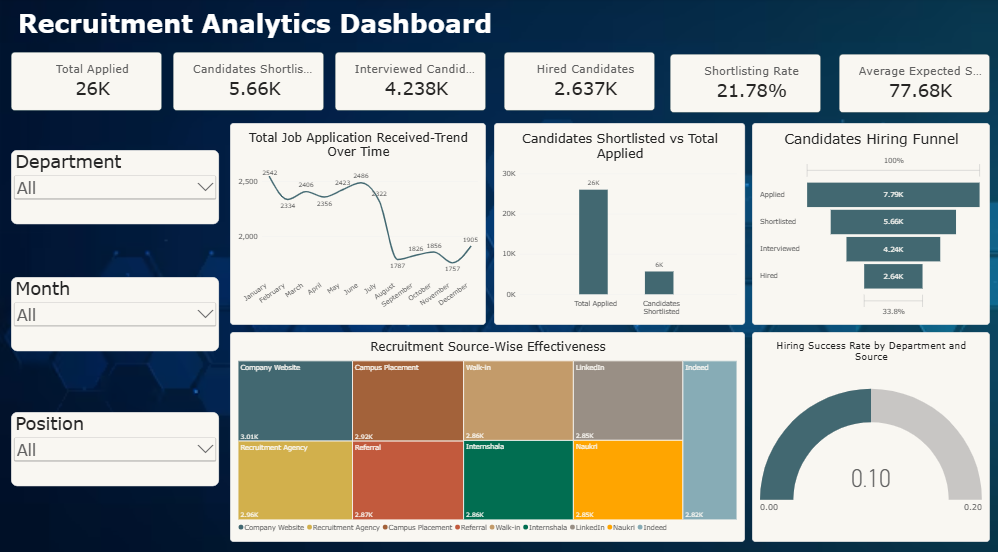

What the dashboard file says about the page in this screenshot:
{"tool":"powerbi","page":{"name":"Recruitment Analytics","canvas":[2120,1180],"ordinal":2},"visuals":[{"type":"textbox","box":[42.5,19.1,1213.9,76.5],"z":0},{"type":"lineChart","title":"Total Job Application Received-Trend Over Time","fields":{"Y":["Count(job_applications_cleaned.application_id)"],"Category":["job_applications_cleaned.application_date.Variation.Date Hierarchy.Month"]},"box":[490.6,264.3,541.4,427.2],"z":1000},{"type":"clusteredColumnChart","title":"Candidates Shortlisted vs Total Applied","fields":{"Category":["Recruitment Comparison.Metric"],"Y":["Recruitment Comparison.Recruitment Count"]},"box":[1048.9,264.3,530.8,427.2],"z":2000},{"type":"funnel","title":"Candidates Hiring Funnel","fields":{"Category":["job_applications_cleaned.status"],"Y":["Count(job_applications_cleaned.application_id)"]},"box":[1594.5,264.3,503.3,427.2],"z":3000},{"type":"treemap","title":"Recruitment Source-Wise Effectiveness","fields":{"Group":["job_applications_cleaned.recruitment_source"],"Values":["CountNonNull(job_applications_cleaned.application_id)"]},"box":[490.6,706.3,1089.1,444.1],"z":4000},{"type":"gauge","title":"Hiring Success Rate by Department and Source","fields":{"Y":["job_applications_cleaned.Hiring Success Rate"]},"box":[1594.5,706.3,503.3,444.1],"z":5000},{"type":"cardVisual","fields":{"Data":["job_applications_cleaned.Average Expected Salary"]},"box":[1778.1,118.5,319.2,124.1],"z":6000},{"type":"cardVisual","fields":{"Data":["job_applications_cleaned.Total Applied"]},"box":[27.4,114,319.2,124.1],"z":7000},{"type":"cardVisual","fields":{"Data":["job_applications_cleaned.Candidates Shortlisted"]},"box":[369.3,114,319.2,124.1],"z":8000},{"type":"cardVisual","fields":{"Data":["job_applications_cleaned.Interviewed Candidates"]},"box":[713.5,114,319.2,124.1],"z":9000},{"type":"cardVisual","fields":{"Data":["job_applications_cleaned.Hired Candidates"]},"box":[1069.1,114,319.2,124.1],"z":10000},{"type":"cardVisual","fields":{"Data":["job_applications_cleaned.Shortlisting Rate"]},"box":[1420.2,118.5,319.2,124.1],"z":11000},{"type":"slicer","fields":{"Values":["departments_cleaned.department_name"]},"box":[27.5,321.4,440,157.3],"z":12000},{"type":"slicer","fields":{"Values":["DateTable.Date.Variation.Date Hierarchy.Month"]},"box":[27.5,590,440,157.3],"z":13000},{"type":"slicer","fields":{"Values":["job_applications_cleaned.position_applied"]},"box":[27.5,875.5,440,157.3],"z":14000}]}

Visuals, with their boxes in screenshot pixels (x1, y1, x2, y2), scaled from the page's 2120x1180 canvas onto the 998x552 screenshot:
textbox: crop(20, 9, 591, 45)
"Total Job Application Received-Trend Over Time" lineChart: crop(231, 124, 486, 323)
"Candidates Shortlisted vs Total Applied" clusteredColumnChart: crop(494, 124, 744, 323)
"Candidates Hiring Funnel" funnel: crop(751, 124, 988, 323)
"Recruitment Source-Wise Effectiveness" treemap: crop(231, 330, 744, 538)
"Hiring Success Rate by Department and Source" gauge: crop(751, 330, 988, 538)
cardVisual - job_applications_cleaned.Average Expected Salary: crop(837, 55, 987, 113)
cardVisual - job_applications_cleaned.Total Applied: crop(13, 53, 163, 111)
cardVisual - job_applications_cleaned.Candidates Shortlisted: crop(174, 53, 324, 111)
cardVisual - job_applications_cleaned.Interviewed Candidates: crop(336, 53, 486, 111)
cardVisual - job_applications_cleaned.Hired Candidates: crop(503, 53, 654, 111)
cardVisual - job_applications_cleaned.Shortlisting Rate: crop(669, 55, 819, 113)
slicer - departments_cleaned.department_name: crop(13, 150, 220, 224)
slicer - DateTable.Date.Variation.Date Hierarchy.Month: crop(13, 276, 220, 350)
slicer - job_applications_cleaned.position_applied: crop(13, 410, 220, 483)
